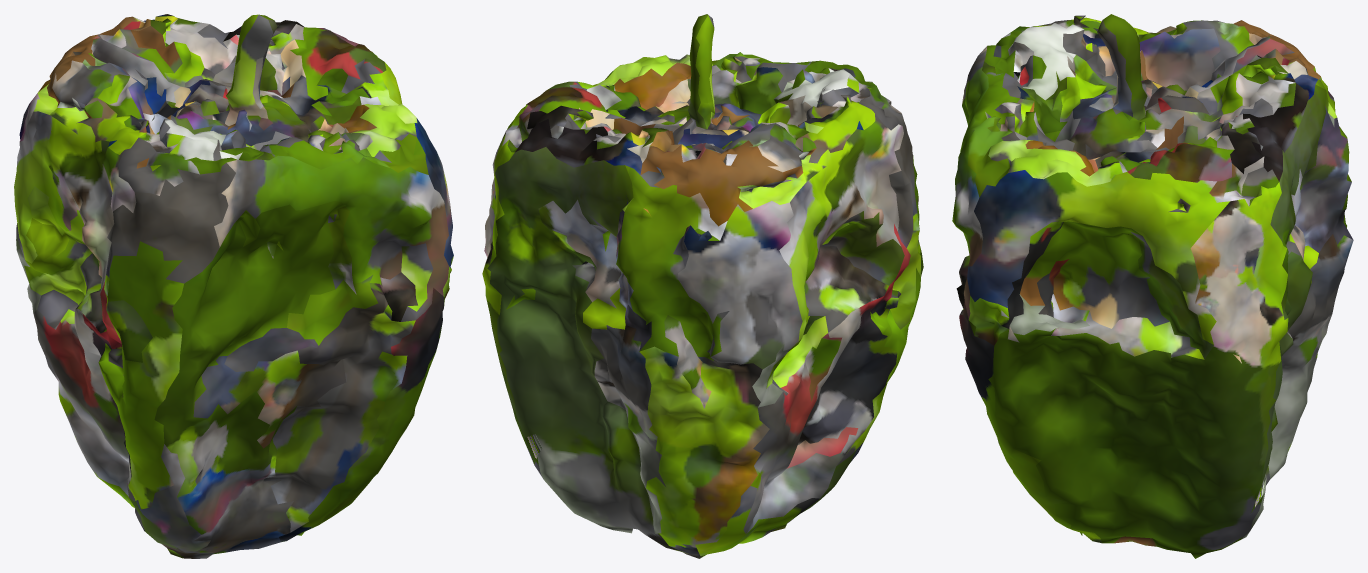
The model's file is red_pepper.obj.
The picture shows the model from 3 angles, left to right: view 1: azimuth 30°, elevation 25°; view 2: azimuth 150°, elevation 25°; view 3: azimuth 270°, elevation 25°; orthographic projection. The views are drawn at different scales.
Parts seen in each view (by area): view 1: mesh; view 2: mesh; view 3: mesh.
Part boxes in pixels (x1,y1,x2,y2): mesh: [14, 14, 453, 558]; mesh: [482, 14, 923, 558]; mesh: [952, 14, 1353, 558].
Size of the model in its own units: 0.078 by 0.1054 by 0.0746.
